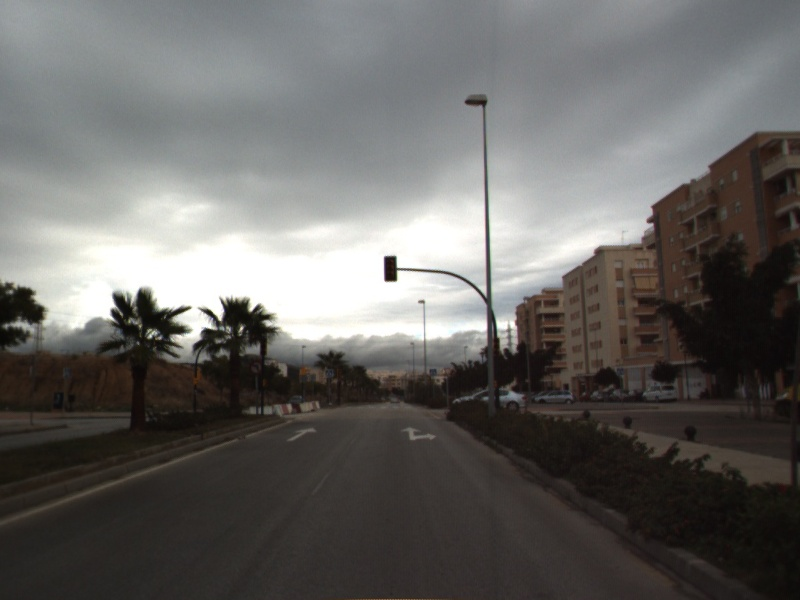STRAIGHT: (285, 425, 319, 443)
STRAIGHT_RIGHT: (399, 425, 438, 442)
